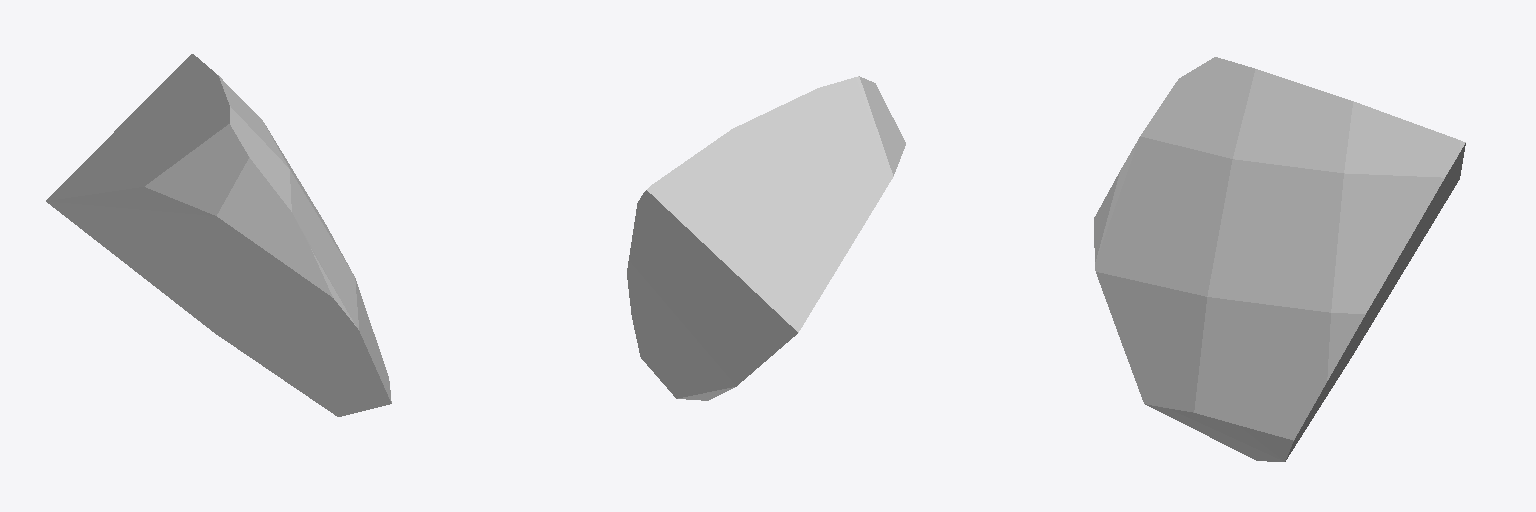
File: Sphere_Cell_Fracture6.obj
3 renders of one model, left to right at view 1: azimuth 30°, elevation 25°; view 2: azimuth 150°, elevation 25°; view 3: azimuth 270°, elevation 25°, orthographic.
Size of the model in its own units: 0.3894 by 0.5265 by 0.5206.